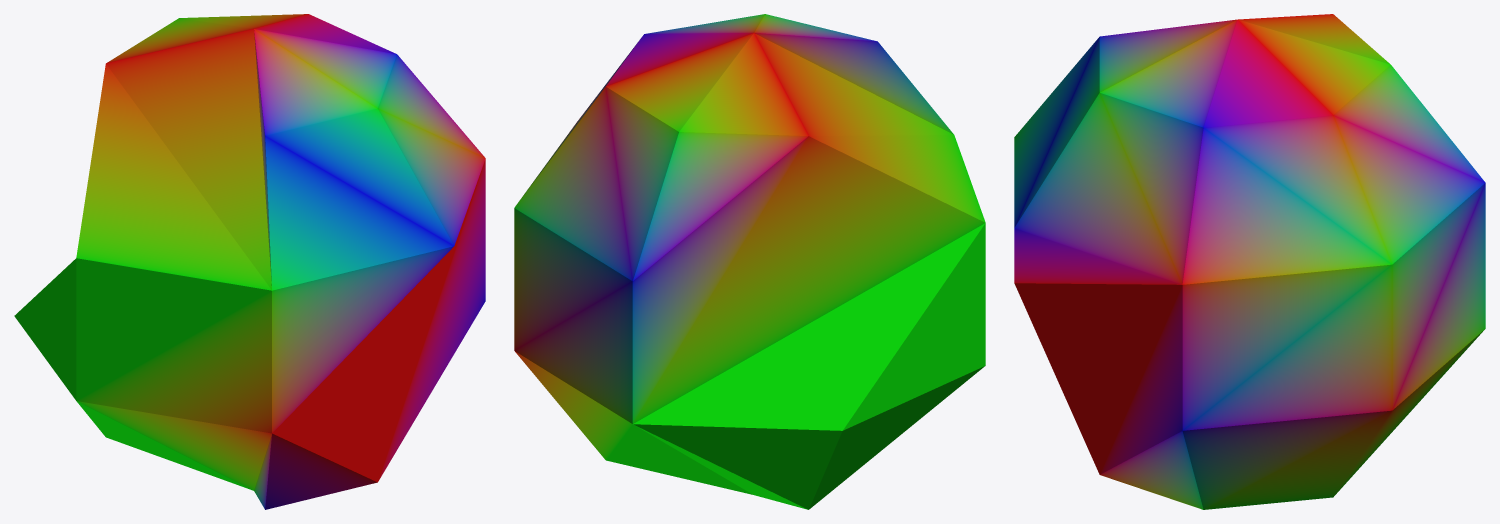
The model's file is all_15.obj.
The picture shows the model from 3 angles, left to right: view 1: azimuth 30°, elevation 25°; view 2: azimuth 150°, elevation 25°; view 3: azimuth 270°, elevation 25°; orthographic projection. The views are drawn at different scales.
Size of the model in its own units: 1.85 by 2 by 1.81.
